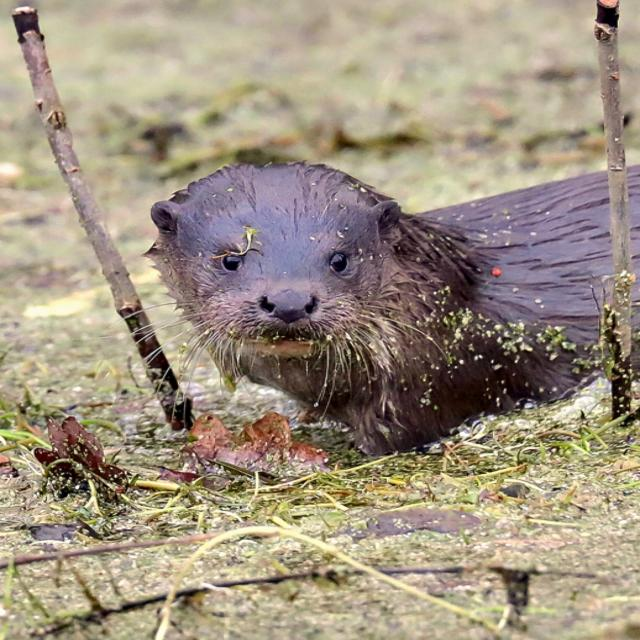otter: (161, 160, 640, 401)
